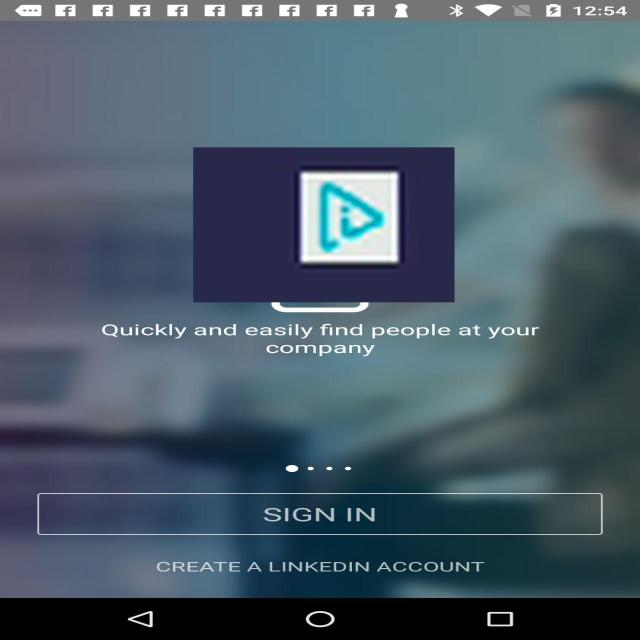sneaking: (193, 148, 455, 302)
